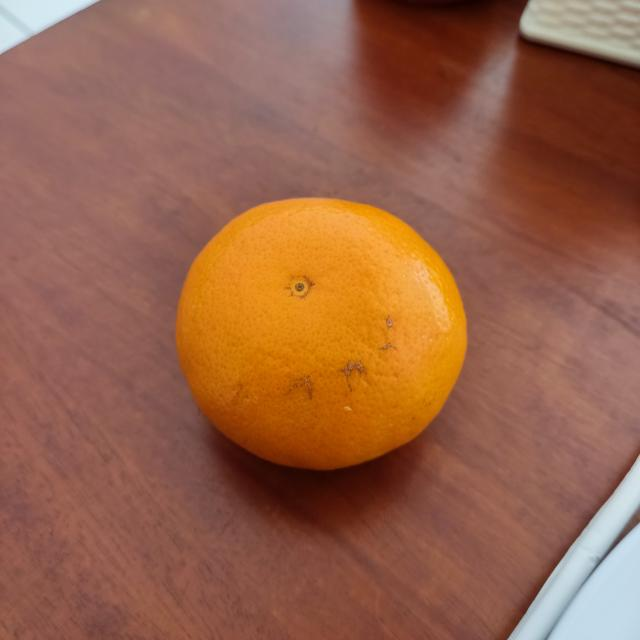orange: (171, 193, 470, 474)
